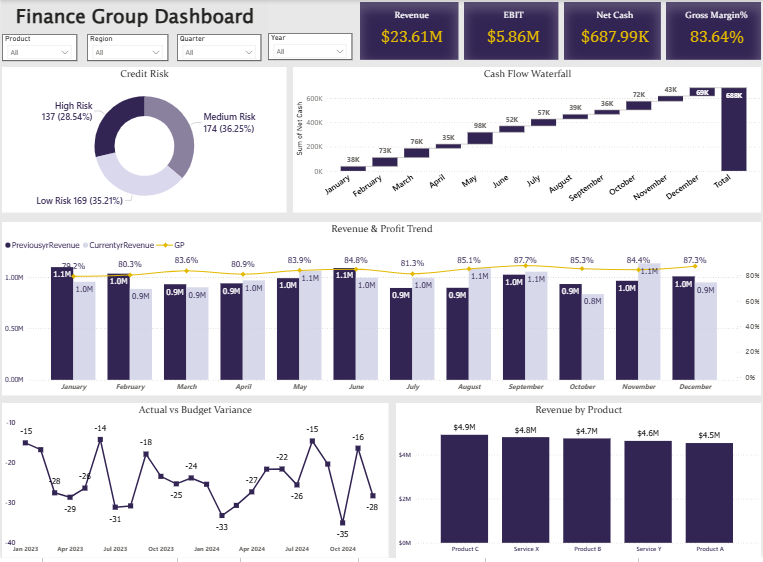

The page's visual inventory and layout, read from the dashboard file:
{"tool":"powerbi","page":{"name":"Dashboard","canvas":[1500,1100],"ordinal":0},"visuals":[{"type":"image","box":[0,0,139.4,118.6],"z":0},{"type":"textbox","box":[139.5,0,327.2,66.4],"z":1000},{"type":"card","title":"Revenue","fields":{"Values":["Table1.Total_revenue"]},"box":[706.7,4.8,193.9,113.8],"z":2000},{"type":"card","title":"Gross Margin%","fields":{"Values":["Table1.GP"]},"box":[1310.9,4.8,189.1,113.8],"z":3000},{"type":"card","title":"EBIT","fields":{"Values":["Sum(Table1.EBITDA)"]},"box":[911.9,4.8,185.9,113.8],"z":4000},{"type":"card","title":"Net Cash","fields":{"Values":["Table1.Total Cash"]},"box":[1109,4.8,190.7,113.8],"z":5000},{"type":"slicer","title":"Product","fields":{"Values":["Table1.Product/Service"]},"box":[139.4,65.7,149,52.9],"z":6000},{"type":"donutChart","title":"Credit Risk","fields":{"Category":["Table1.ReceivableRisk"],"Y":["CountNonNull(Table1.ReceivableRisk)"]},"box":[1.7,131.2,561.5,287.4],"z":7000},{"type":"waterfallChart","title":"Cash Flow Waterfall","fields":{"Y":["Sum(Table1.Net Cash)"],"Category":["Table1.Month.Variation.Date Hierarchy.Month"]},"box":[575.3,131.4,924.7,286.9],"z":8000},{"type":"lineClusteredColumnComboChart","title":"Revenue & Profit Trend","fields":{"Y":["Table1.PreviousyrRevenue","Table1.CurrentyrRevenue"],"Category":["Table1.Month.Variation.Date Hierarchy.Month"],"Y2":["Table1.GP"]},"box":[1.7,436.9,1498.3,342.2],"z":9000},{"type":"lineChart","title":"Actual vs Budget Variance","fields":{"Category":["Table1.Month.Variation.Date Hierarchy.Year","Table1.Month.Variation.Date Hierarchy.Quarter","Table1.Month.Variation.Date Hierarchy.Month","Table1.Month.Variation.Date Hierarchy.Day"],"Y":["Table1.Variance%age"]},"box":[0,794.7,764.4,305.3],"z":10000},{"type":"clusteredColumnChart","title":"Revenue by Product","fields":{"Category":["Table1.Product/Service"],"Y":["Table1.Total_revenue"]},"box":[779.1,794,720.9,305.6],"z":11000},{"type":"slicer","title":"Region","fields":{"Values":["Table1.Region"]},"box":[301.3,65.7,160.3,52.9],"z":12000},{"type":"slicer","title":"Year","fields":{"Values":["Table1.Month.Variation.Date Hierarchy.Year"]},"box":[466.3,0,226,52.9],"z":13000},{"type":"slicer","title":"Quarter","fields":{"Values":["Table1.Month.Variation.Date Hierarchy.Quarter"]},"box":[466.3,65.7,226,52.9],"z":14000}]}

Visuals, with their boxes in screenshot pixels (x1, y1, x2, y2), scaled from the page's 1500x1100 canvas onto the 763x562 screenshot:
image: locate(0, 0, 71, 61)
textbox: locate(71, 0, 237, 34)
"Revenue" card: locate(359, 2, 458, 61)
"Gross Margin%" card: locate(667, 2, 762, 61)
"EBIT" card: locate(464, 2, 558, 61)
"Net Cash" card: locate(564, 2, 661, 61)
"Product" slicer: locate(71, 34, 147, 61)
"Credit Risk" donutChart: locate(1, 67, 286, 214)
"Cash Flow Waterfall" waterfallChart: locate(293, 67, 762, 214)
"Revenue & Profit Trend" lineClusteredColumnComboChart: locate(1, 223, 762, 398)
"Actual vs Budget Variance" lineChart: locate(0, 406, 389, 561)
"Revenue by Product" clusteredColumnChart: locate(396, 406, 762, 561)
"Region" slicer: locate(153, 34, 235, 61)
"Year" slicer: locate(237, 0, 352, 27)
"Quarter" slicer: locate(237, 34, 352, 61)
